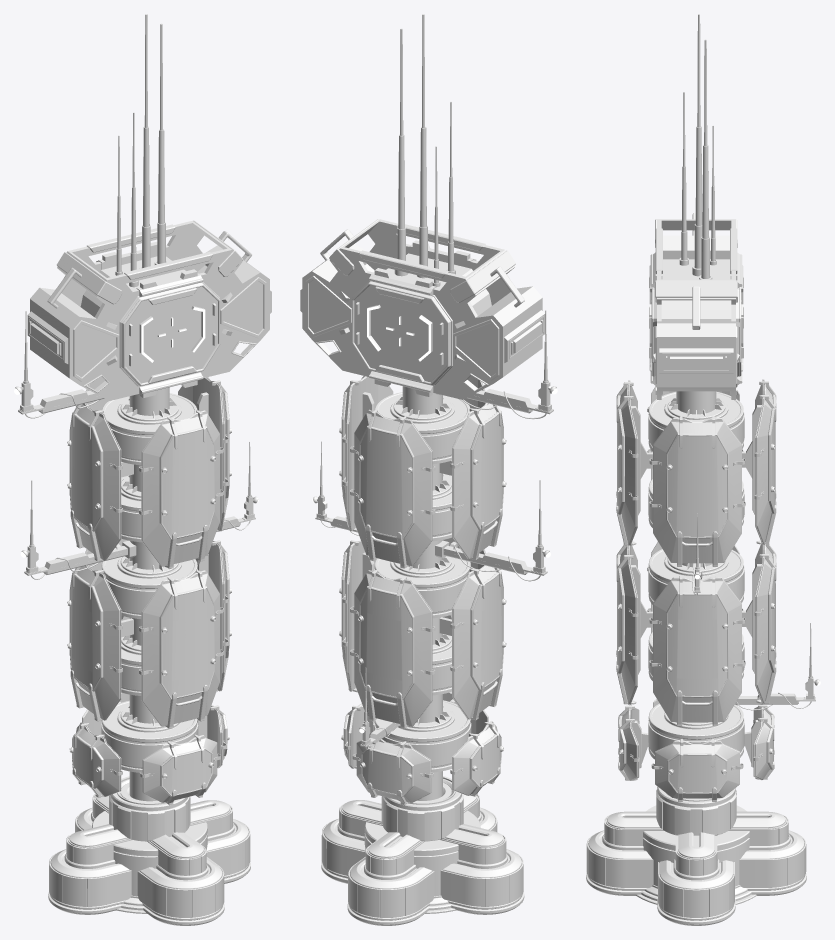
The model's file is KB3D_FTW_PropRepeater_B_grp.glb.
The picture shows the model from 3 angles, left to right: view 1: azimuth 30°, elevation 25°; view 2: azimuth 150°, elevation 25°; view 3: azimuth 270°, elevation 25°; orthographic projection.
Visible parts, largest first — view 1: KB3D_FTW_PropRepeater_B_Main; view 2: KB3D_FTW_PropRepeater_B_Main; view 3: KB3D_FTW_PropRepeater_B_Main.
Part boxes in pixels (box(x1,y1,x2,y2)): KB3D_FTW_PropRepeater_B_Main: box(14, 14, 271, 925); KB3D_FTW_PropRepeater_B_Main: box(300, 14, 557, 925); KB3D_FTW_PropRepeater_B_Main: box(586, 14, 820, 925).
Bounding box in the file's own units: 5.56 × 18.91 × 4.65.
Materials: 10 (1 with a texture image).
